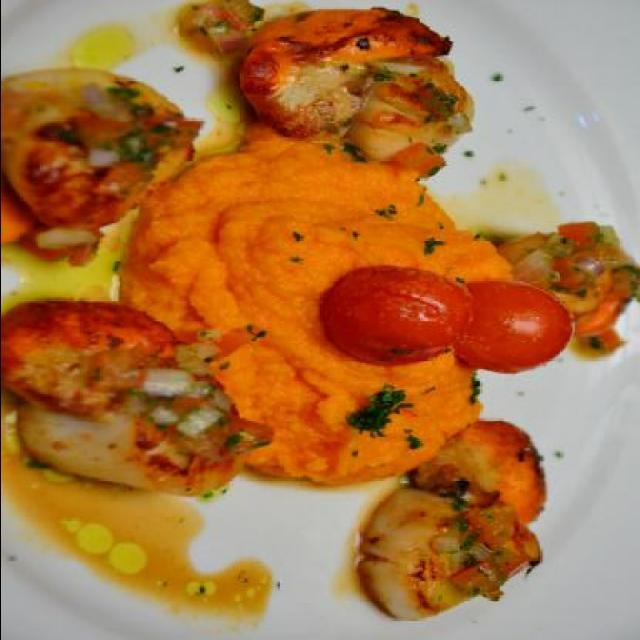Tomato: (326, 266, 472, 364), (454, 283, 574, 379)
